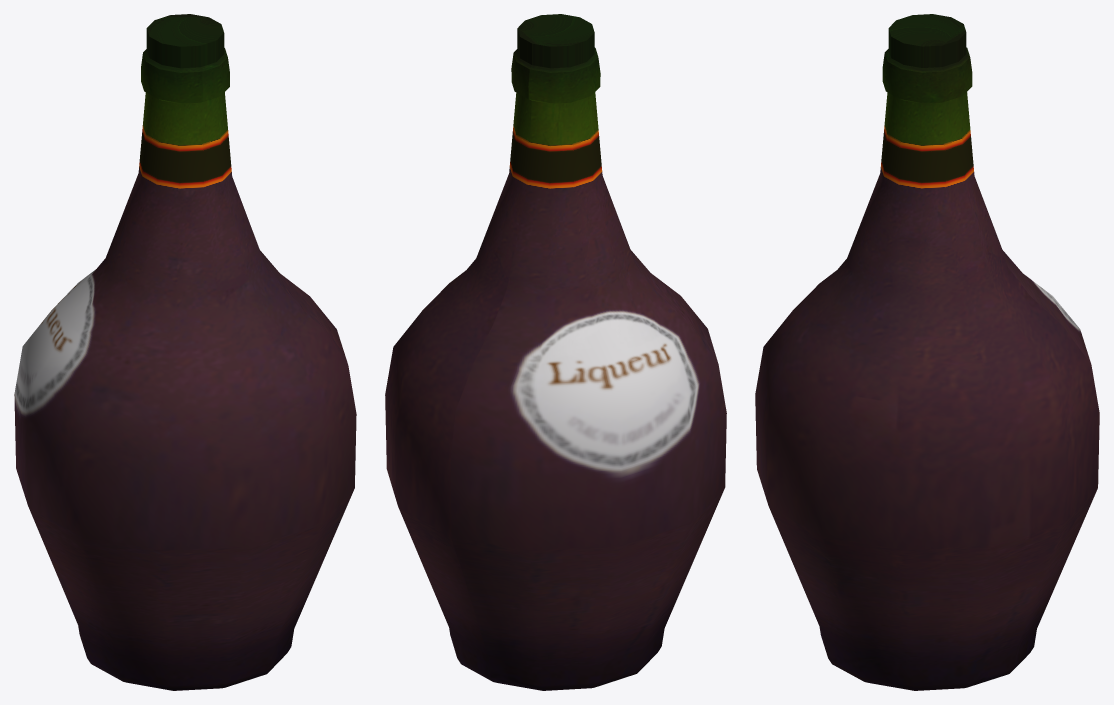
Rendered from Bottle 2.FBX.
3 views of the same model, side by side, from view 1: azimuth 30°, elevation 25°; view 2: azimuth 150°, elevation 25°; view 3: azimuth 270°, elevation 25° (orthographic).
Parts seen in each view (by area): view 1: Bottle 2; view 2: Bottle 2; view 3: Bottle 2.
Boxes of the visible parts, x1=… form: Bottle 2: x1=14, y1=14, x2=356, y2=690; Bottle 2: x1=385, y1=14, x2=726, y2=690; Bottle 2: x1=755, y1=14, x2=1099, y2=690.
Bounding box in the file's own units: 14.5 × 29.11 × 14.64.
Materials: 1 (1 with a texture image).
